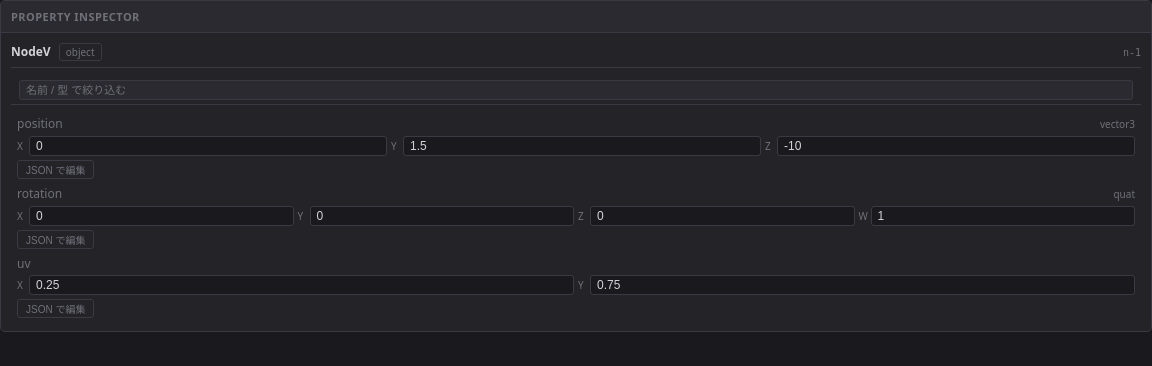
PropertyInspectorPanel — vector editor › refuses an empty component and says so inline
Clear the number field named "position X": (208, 146) [29,136,387,156]
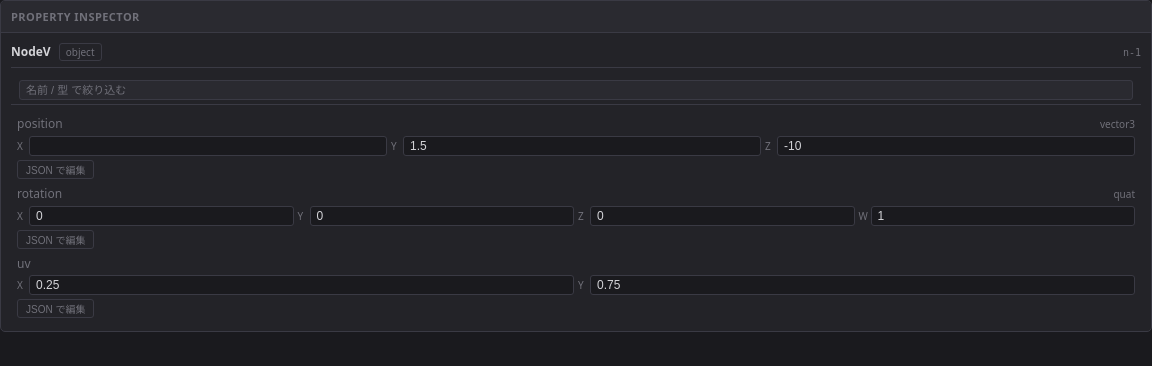
Leave the number field named "position X", box [29,136,387,156]
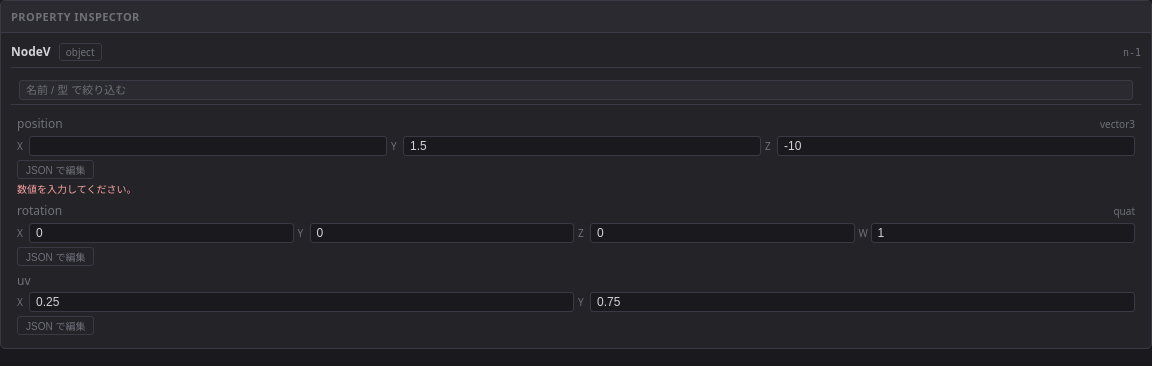
Now the text "数値を入力してください。" is shown, box [17,182,136,196]
